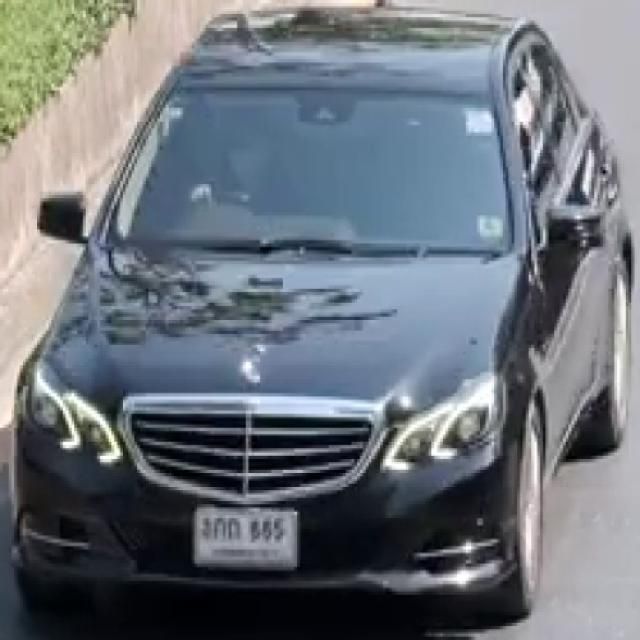plate: (194, 503, 301, 567)
